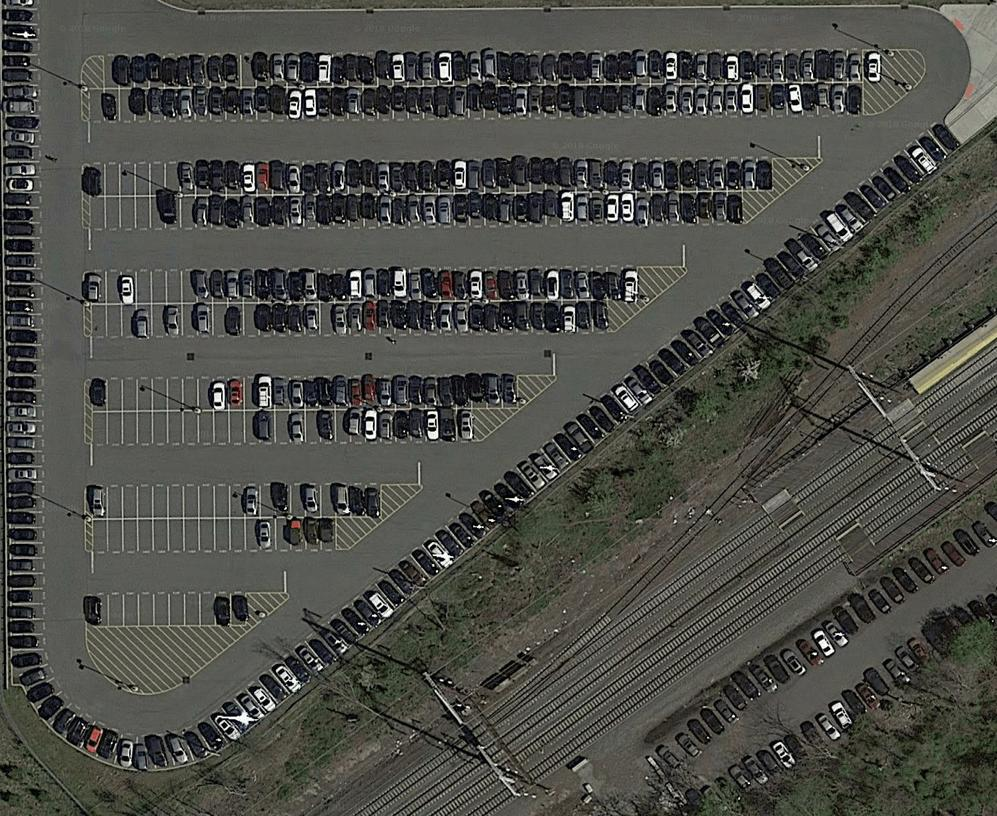parkingspot: (2, 1, 965, 771), (652, 501, 997, 777), (685, 587, 997, 810), (87, 81, 865, 125), (100, 48, 883, 91), (87, 153, 775, 198), (86, 188, 745, 231), (88, 263, 641, 307), (89, 297, 612, 341), (89, 373, 521, 413), (89, 406, 475, 448), (91, 480, 383, 521), (90, 515, 338, 555), (91, 589, 248, 629)
